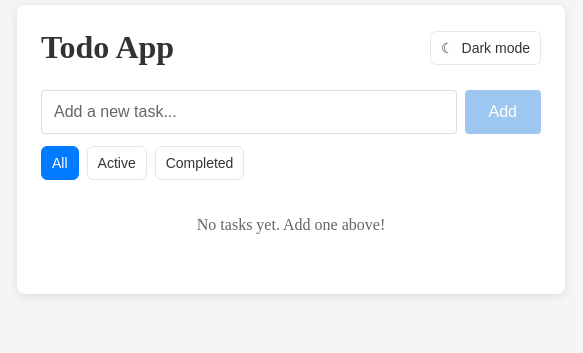
removes a todo when its delete button is clicked
In the field with placeholder "Add a new task...": (249, 112) [41, 90, 456, 134], type "renew the passport"
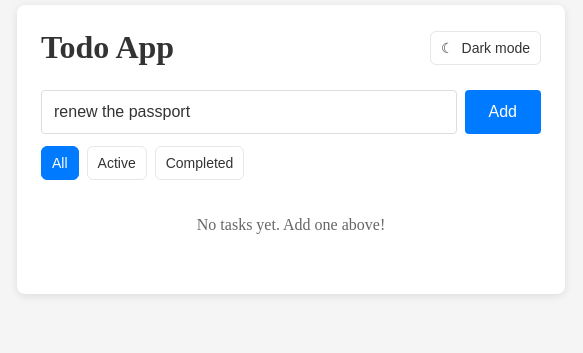
Submit the form with placeholder "Add a new task", box [41, 90, 541, 134]
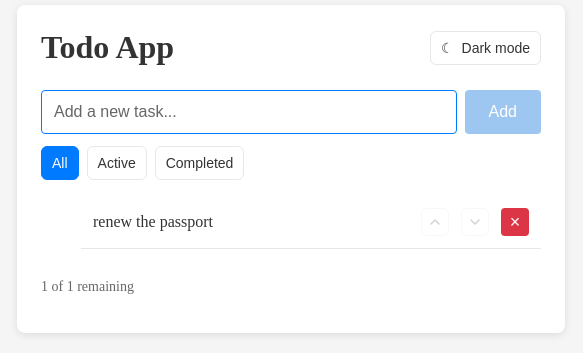
Click the button named "delete renew the passport": click(515, 222) [501, 208, 529, 236]
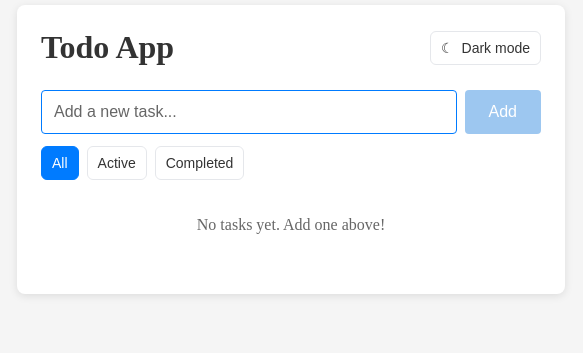
Check: the text "renew the passport" is gone
Check: the text "No tasks yet. Add one above!" is shown, box [197, 216, 385, 233]
